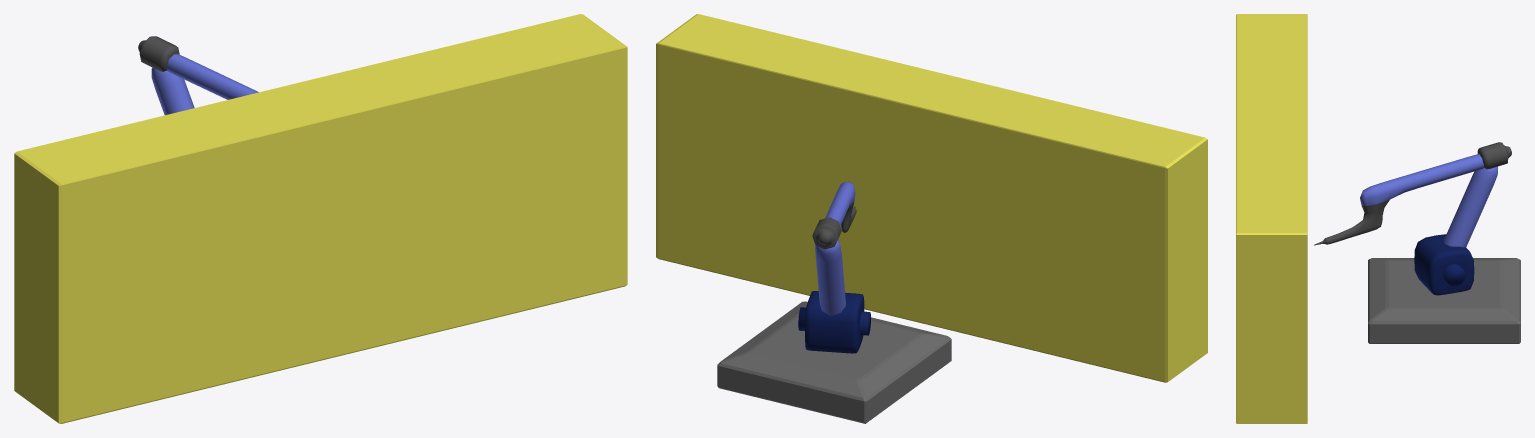
The model's file is robot.glb.
3 renders of one model, left to right at view 1: azimuth 30°, elevation 25°; view 2: azimuth 150°, elevation 25°; view 3: azimuth 270°, elevation 25°, orthographic. The views are drawn at different scales.
Visible parts, largest first — view 1: Cube, ferramenta, braço; view 2: Cube, plataforma, base, braço, ferramenta; view 3: Cube, plataforma, ferramenta, base, braço.
Boxes of the visible parts, x1,y1,x2,y2 form: Cube: (14,14,627,423); ferramenta: (138,36,258,99); braço: (151,67,194,115); Cube: (656,14,1207,382); plataforma: (717,301,951,423); base: (798,291,870,353); braço: (815,239,845,316); ferramenta: (812,181,856,249); Cube: (1236,14,1307,423); plataforma: (1368,258,1520,343); ferramenta: (1314,142,1511,245); base: (1414,234,1474,295); braço: (1444,166,1497,247).
Size of what is drawn, in the model's own units: 6.83 by 2.75 by 3.72.
